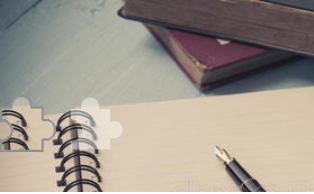target: (68, 96, 127, 153)
